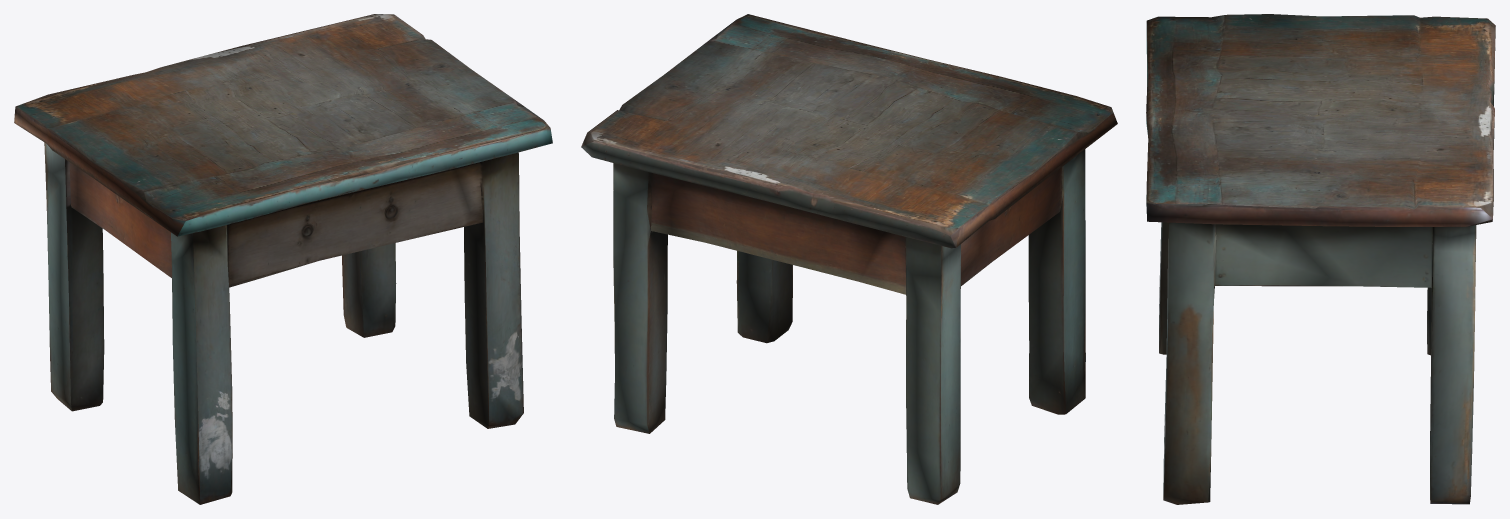
Rendered from table1.fbx.
3 views of the same model, side by side, from view 1: azimuth 30°, elevation 25°; view 2: azimuth 150°, elevation 25°; view 3: azimuth 270°, elevation 25° (orthographic). The views are drawn at different scales.
Visible parts, largest first — view 1: Mesh1_Mesh1.011; view 2: Mesh1_Mesh1.011; view 3: Mesh1_Mesh1.011.
Part boxes in pixels (left/top/right/bottom): Mesh1_Mesh1.011: left=14, top=14, right=552, bottom=504; Mesh1_Mesh1.011: left=581, top=14, right=1117, bottom=504; Mesh1_Mesh1.011: left=1146, top=14, right=1495, bottom=504.
Size of the model in its own units: 199 by 151 by 152.
Materials: 1 (1 with a texture image).
